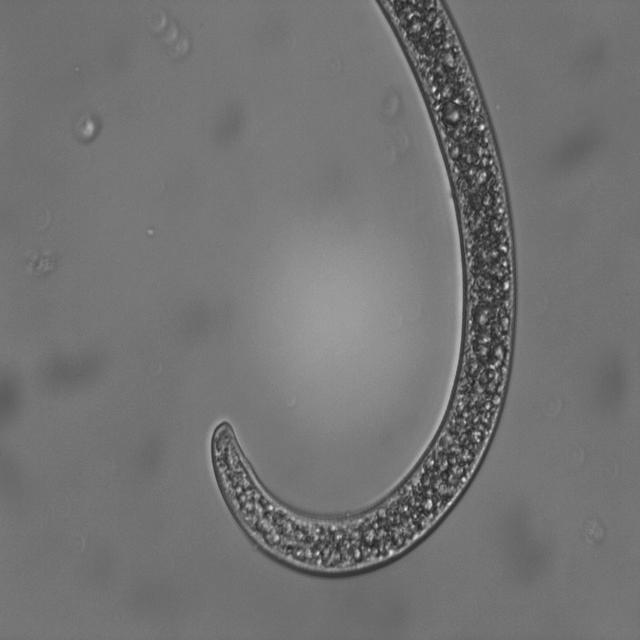Helicotylenchus: (194, 0, 532, 582)
